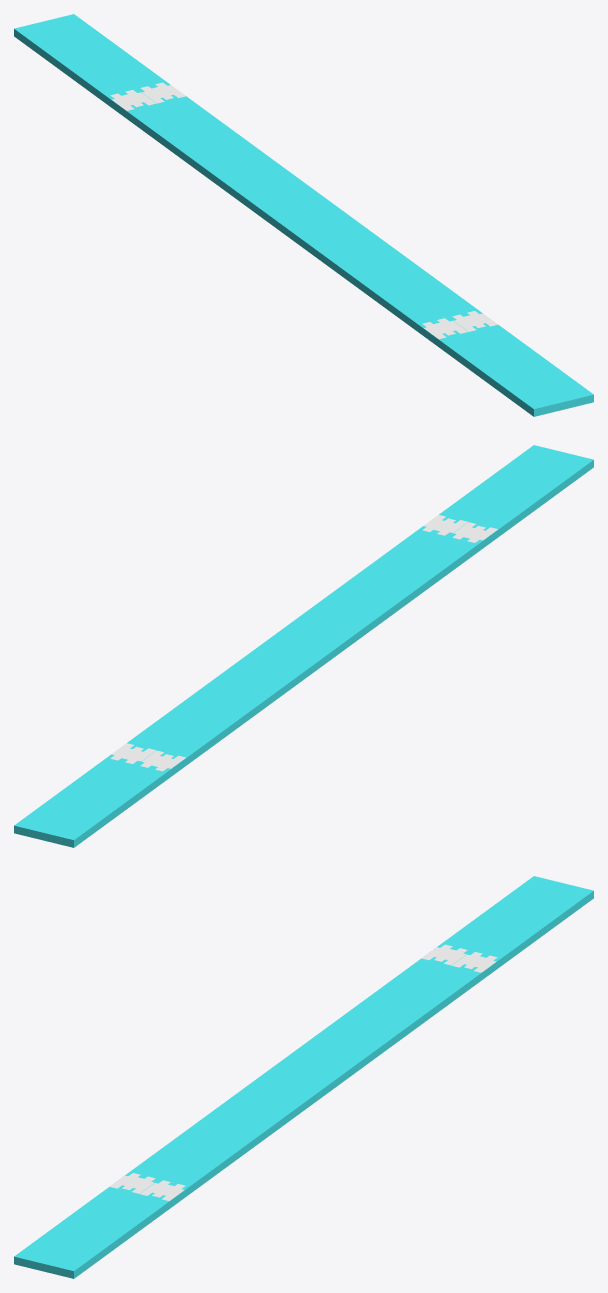
File: SM_water2.fbx
3 views of the same model, one above another, from view 1: azimuth 30°, elevation 25°; view 2: azimuth 150°, elevation 25°; view 3: azimuth 330°, elevation 25° (orthographic).
Visible parts, largest first — view 1: Water2; view 2: Water2; view 3: Water2.
Part boxes in pixels (box(x1,y1,x2,y2)): Water2: box(14, 14, 593, 416); Water2: box(14, 445, 593, 847); Water2: box(14, 876, 593, 1278).
Size of the model in its own units: 200 by 25 by 3000.
